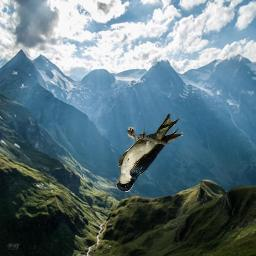Swallow: (117, 114, 184, 193)
